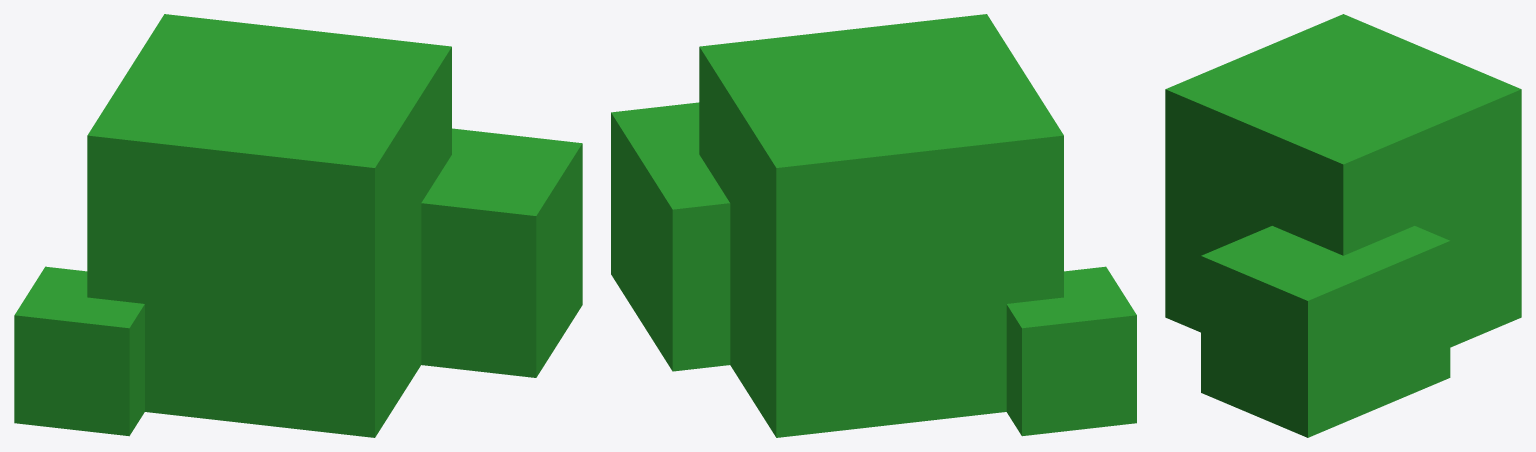
The model's file is bush_1.glb.
The picture shows the model from 3 angles, left to right: view 1: azimuth 30°, elevation 25°; view 2: azimuth 150°, elevation 25°; view 3: azimuth 270°, elevation 25°; orthographic projection. The views are drawn at different scales.
Visible parts, largest first — view 1: pl0; view 2: pl0; view 3: pl0.
Part boxes in pixels (box(x1,y1,x2,y2)): pl0: box(14, 14, 582, 437); pl0: box(611, 14, 1136, 437); pl0: box(1165, 14, 1521, 437).
Size of the model in its own units: 10.61 by 5 by 7.07.
Materials: 1 (1 with a texture image).
